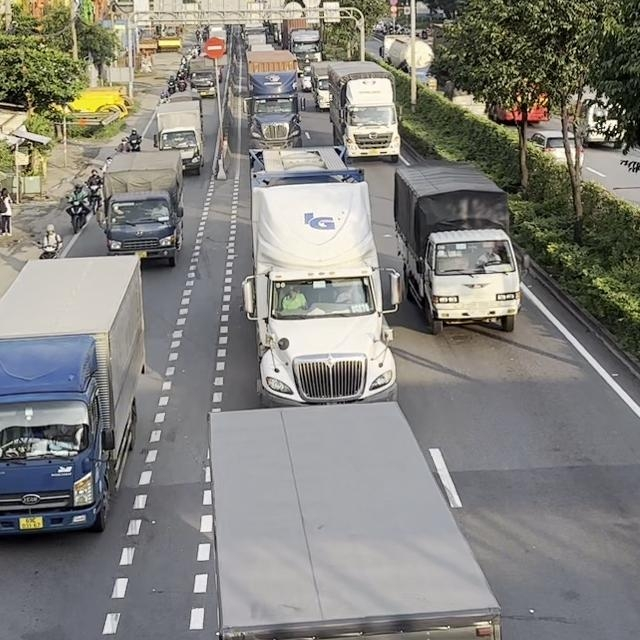motorcycle: (65, 198, 90, 234), (35, 238, 61, 259)
truck: (206, 400, 503, 639), (241, 146, 402, 408), (0, 252, 146, 537), (393, 159, 521, 335), (96, 149, 185, 267), (327, 60, 401, 162), (244, 50, 303, 150), (152, 98, 206, 175)
